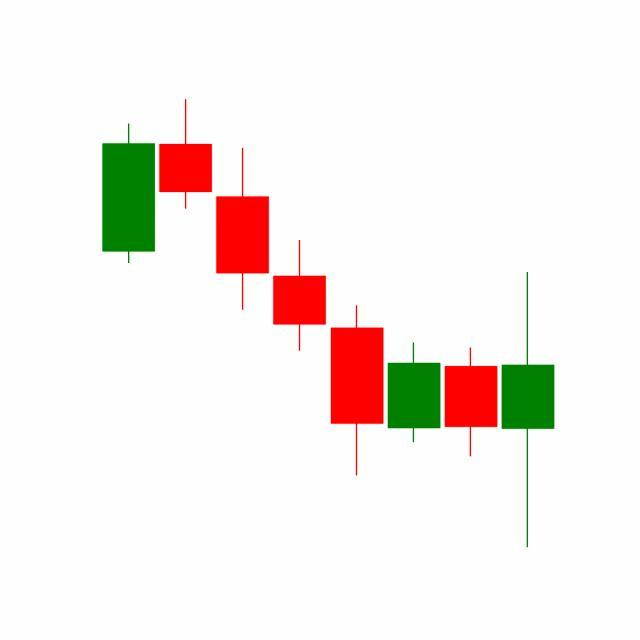Hikkake Pattern: (214, 145, 501, 480)
